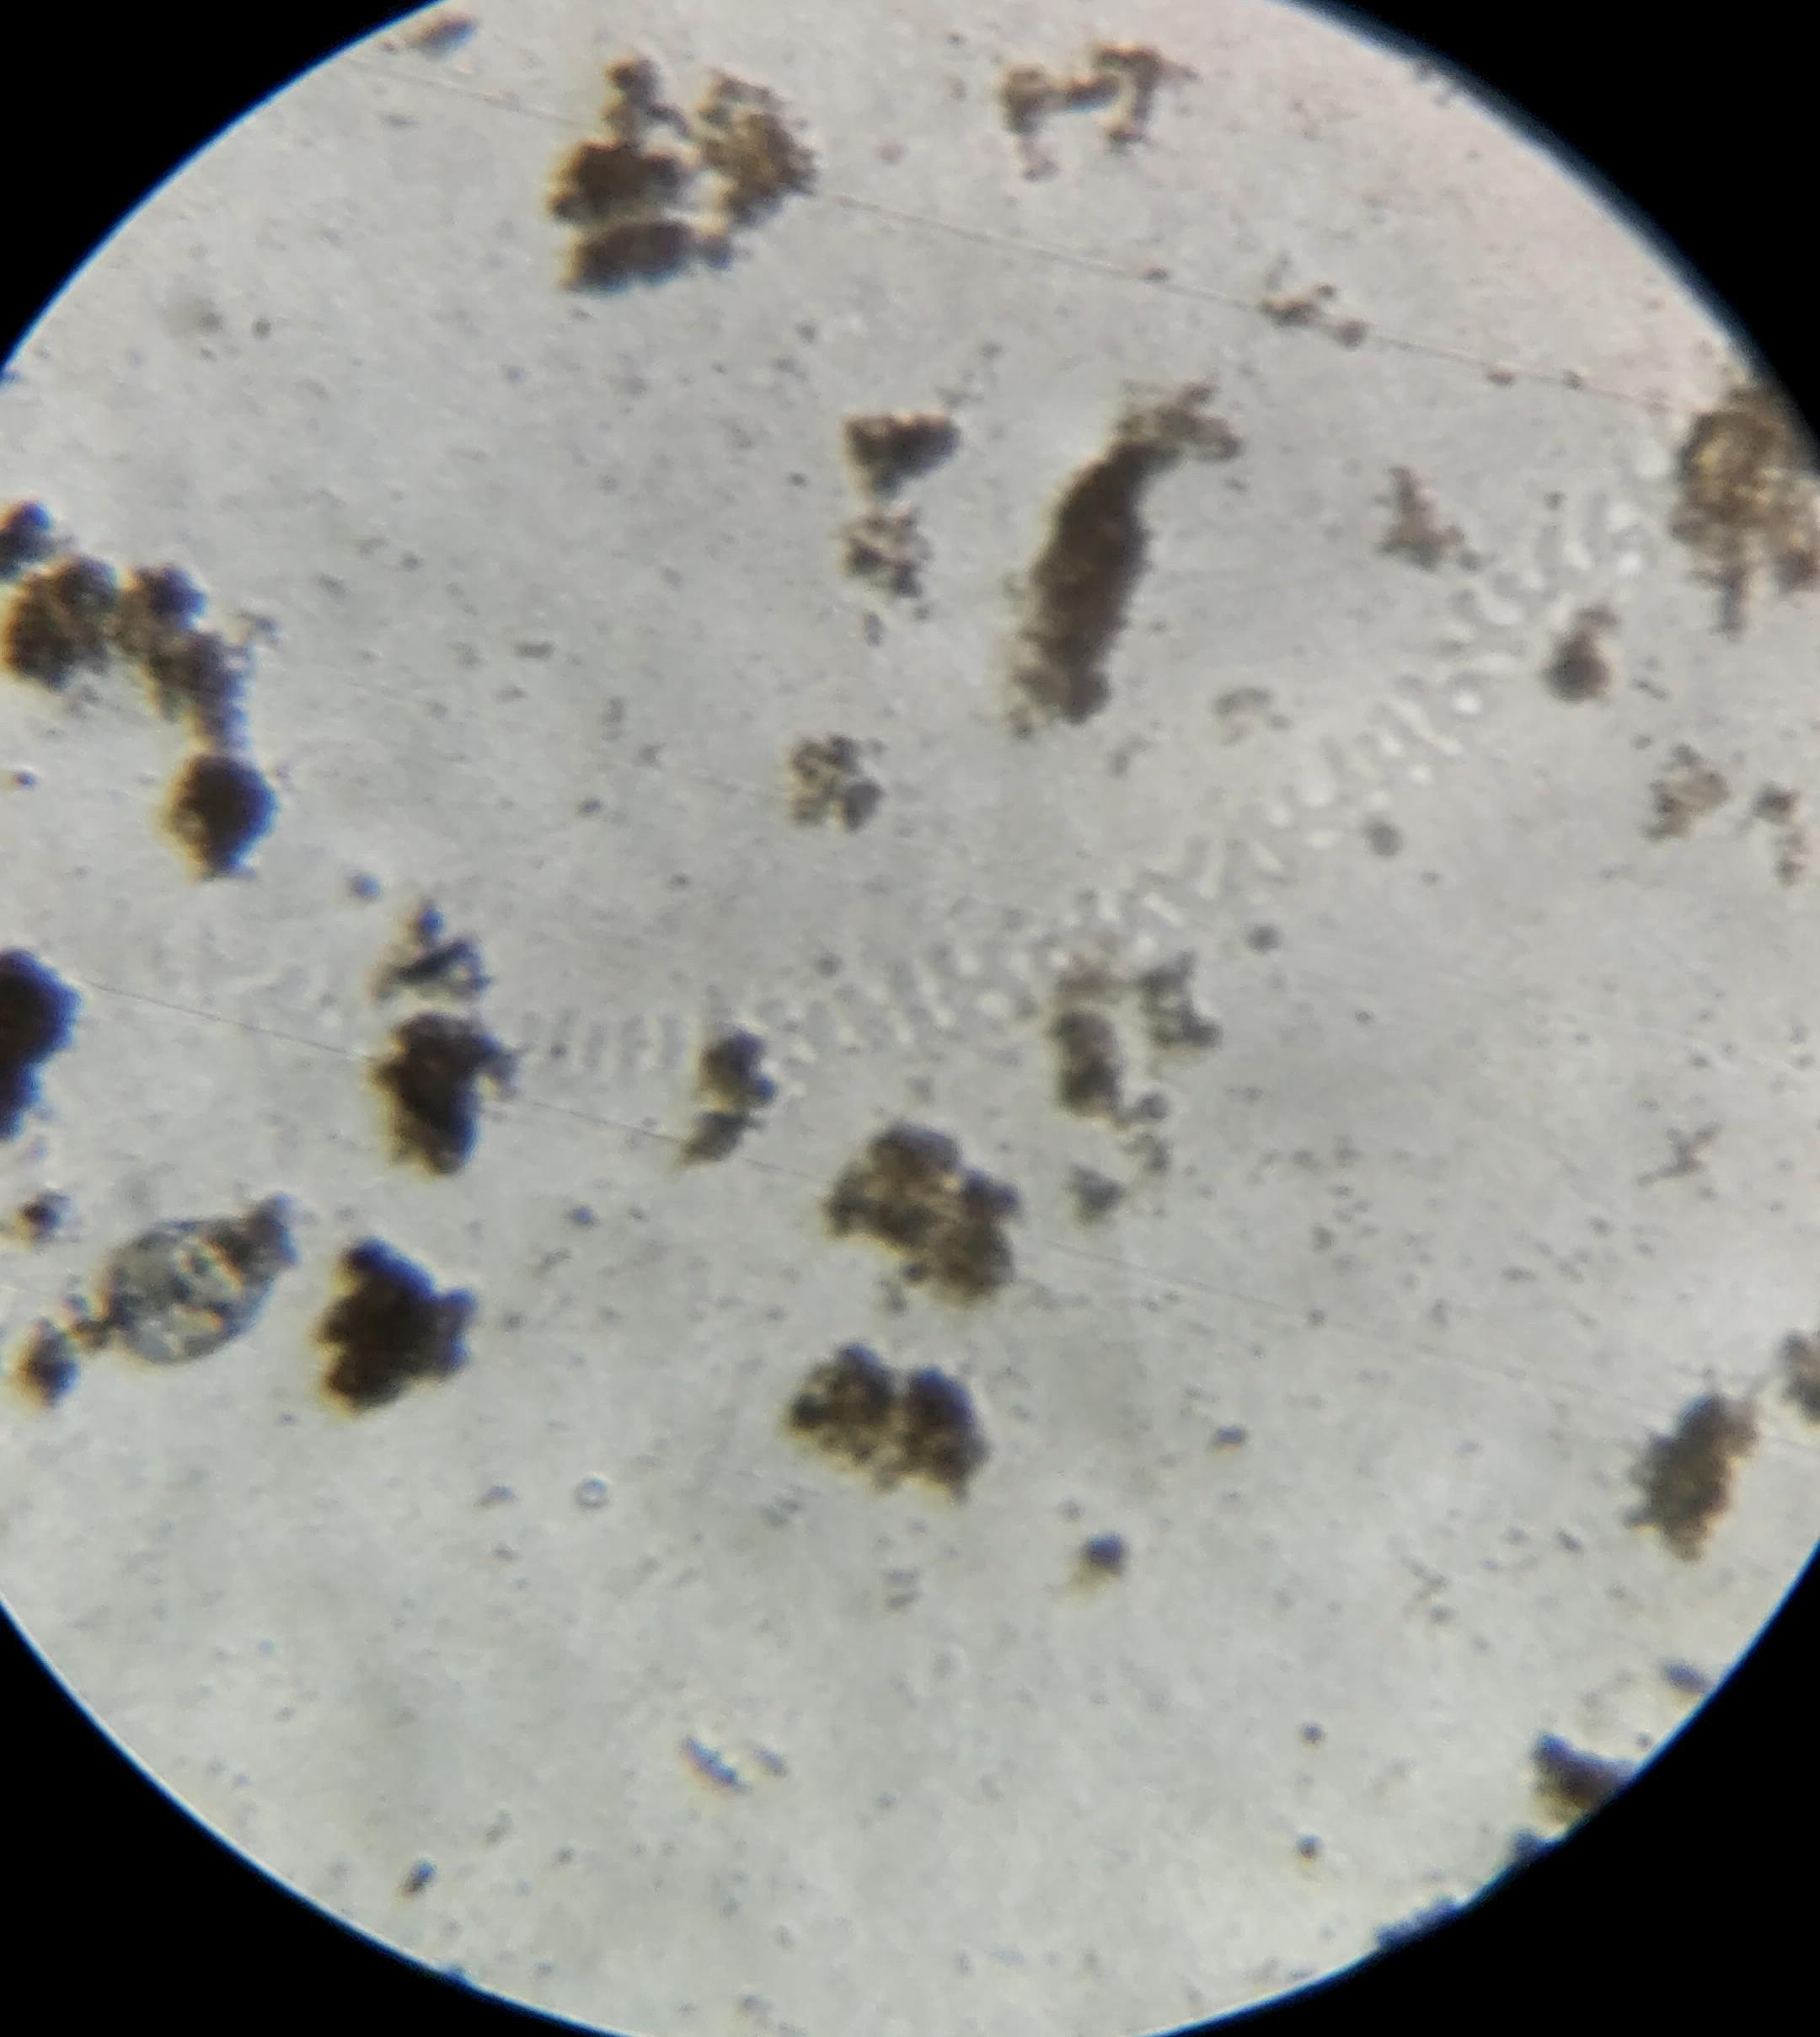Mo: (26, 1220, 285, 1371)
